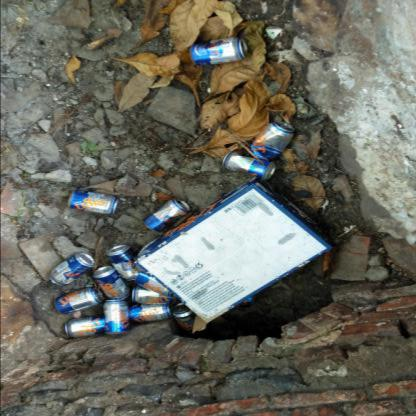Can: (249, 120, 295, 161), (142, 198, 190, 232), (189, 38, 247, 66), (48, 253, 94, 285), (223, 152, 275, 180), (67, 190, 118, 216), (92, 266, 130, 300), (107, 245, 143, 280), (54, 288, 102, 314), (134, 271, 171, 297), (103, 299, 129, 334), (128, 304, 172, 324), (64, 316, 104, 338), (132, 286, 176, 304), (172, 302, 194, 328)
Carton: (134, 176, 332, 332)
Pop tab: (280, 122, 289, 128), (96, 292, 102, 296), (180, 203, 184, 207), (221, 156, 225, 160)
